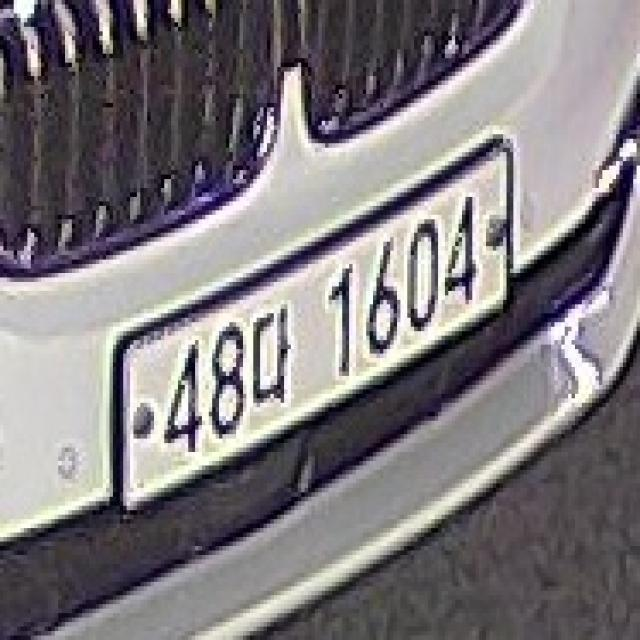plat: (111, 129, 520, 515)
